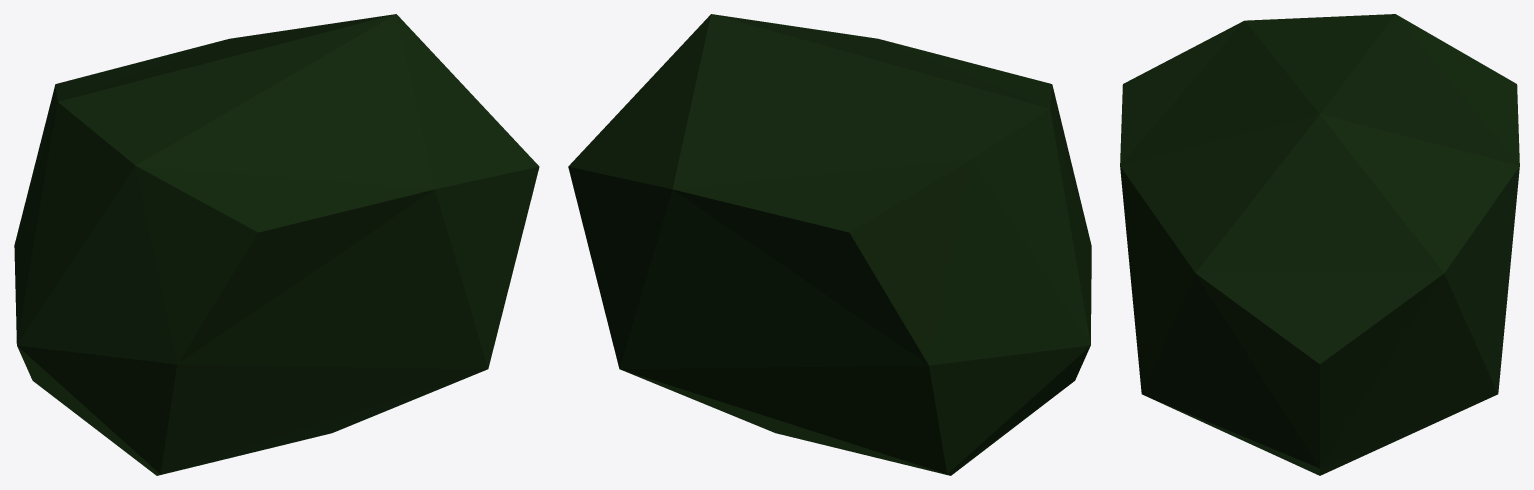
The model's file is Buisson.FBX.
The picture shows the model from 3 angles, left to right: view 1: azimuth 30°, elevation 25°; view 2: azimuth 150°, elevation 25°; view 3: azimuth 270°, elevation 25°; orthographic projection. The views are drawn at different scales.
Visible parts, largest first — view 1: Petit arbre001; view 2: Petit arbre001; view 3: Petit arbre001.
Boxes of the visible parts, x1,y1,x2,y2 form: Petit arbre001: (14, 14, 539, 475); Petit arbre001: (568, 14, 1091, 475); Petit arbre001: (1120, 14, 1519, 475).
Size of the model in its own units: 145 by 108 by 100.
